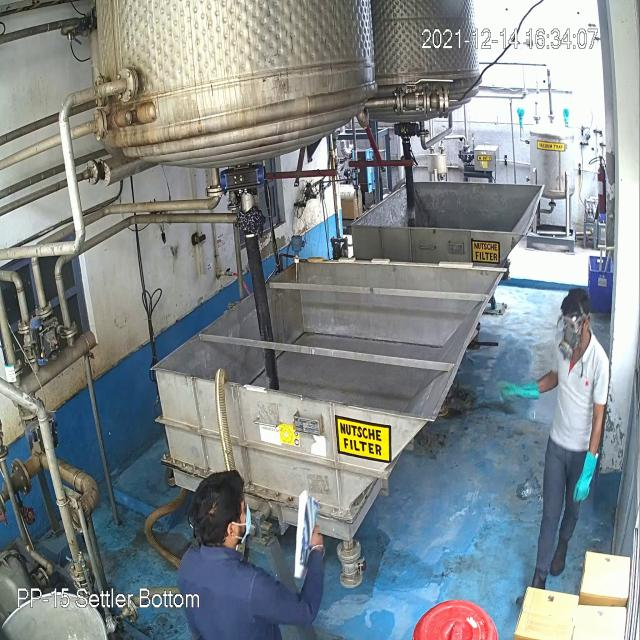glasses: (555, 308, 590, 332)
gloves: (496, 372, 544, 409), (571, 448, 601, 504)
mask: (554, 326, 588, 359)
